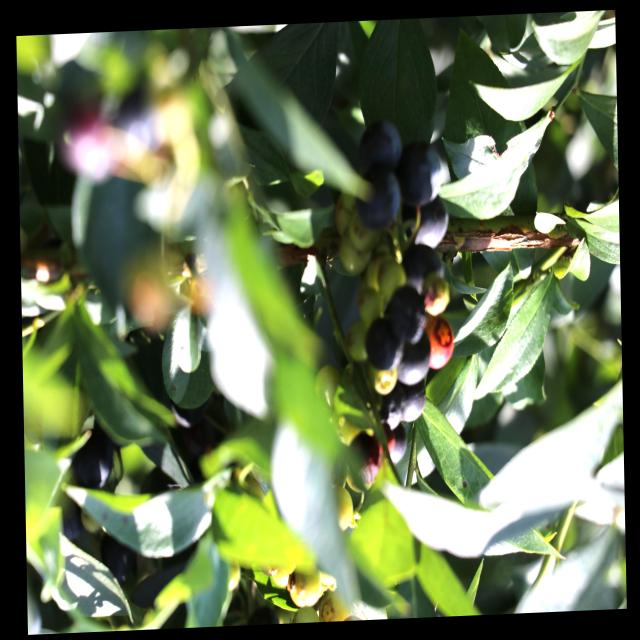blueberry: (397, 143, 442, 207), (356, 170, 399, 232), (357, 121, 405, 175), (402, 202, 449, 252), (388, 286, 426, 344), (400, 247, 444, 295), (365, 320, 401, 373), (395, 333, 431, 384), (392, 380, 428, 423), (376, 424, 408, 472)
blueberry-halfripe: (346, 430, 380, 490), (425, 319, 457, 371)
blueberry-unripe: (285, 561, 324, 607), (328, 483, 355, 532)
